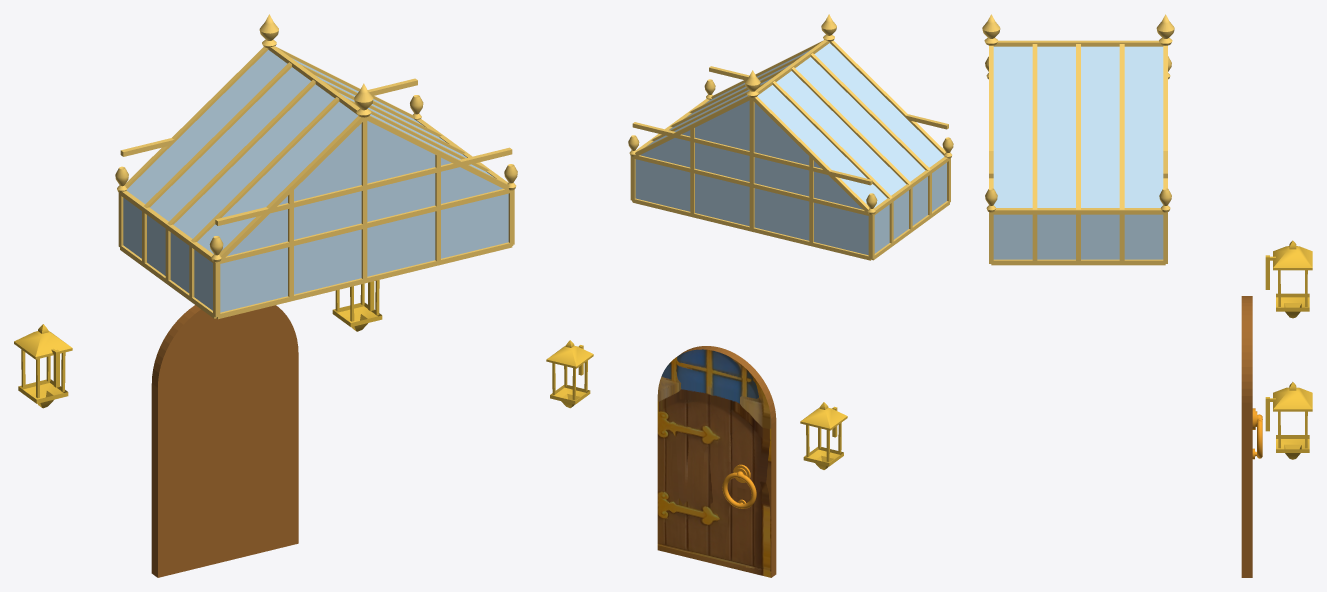
Rendered from HaloShop_Flower_deco.glb.
3 views of the same model, side by side, from view 1: azimuth 30°, elevation 25°; view 2: azimuth 150°, elevation 25°; view 3: azimuth 270°, elevation 25° (orthographic). The views are drawn at different scales.
Parts seen in each view (by area): view 1: HaloShop_Flower_RoofGlass, HaloShop_Flower_Leaf, HaloShop_Flower_RoofFrame, HaloShop_Flower_Lantern0, HaloShop_Flower_Lantern1; view 2: HaloShop_Flower_RoofGlass, HaloShop_Flower_Leaf, HaloShop_Flower_RoofFrame, HaloShop_Flower_Lantern0, HaloShop_Flower_Lantern1, Orn_HaloShop_Flower_Knocker; view 3: HaloShop_Flower_RoofGlass, HaloShop_Flower_RoofFrame, HaloShop_Flower_Leaf, HaloShop_Flower_Lantern0, HaloShop_Flower_Lantern1.
Part boxes in pixels (x1,y1,x2,y2): HaloShop_Flower_RoofGlass: [123, 50, 508, 312]; HaloShop_Flower_Leaf: [151, 305, 298, 577]; HaloShop_Flower_RoofFrame: [118, 46, 514, 319]; HaloShop_Flower_Lantern0: [14, 324, 72, 408]; HaloShop_Flower_Lantern1: [332, 280, 382, 331]; HaloShop_Flower_RoofGlass: [635, 43, 946, 255]; HaloShop_Flower_Leaf: [657, 346, 776, 577]; HaloShop_Flower_RoofFrame: [630, 40, 950, 260]; HaloShop_Flower_Lantern0: [800, 402, 847, 469]; HaloShop_Flower_Lantern1: [546, 340, 593, 408]; Orn_HaloShop_Flower_Knocker: [722, 464, 756, 508]; HaloShop_Flower_RoofGlass: [993, 46, 1163, 259]; HaloShop_Flower_RoofFrame: [989, 40, 1167, 265]; HaloShop_Flower_Leaf: [1241, 296, 1252, 577]; HaloShop_Flower_Lantern0: [1265, 240, 1312, 318]; HaloShop_Flower_Lantern1: [1265, 382, 1312, 459].
Size of the model in its own units: 10.74 by 16.85 by 9.48.
Materials: 5 (1 with a texture image).
